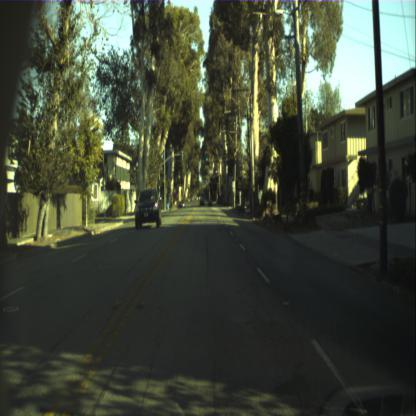Green: (205, 152, 208, 162)
